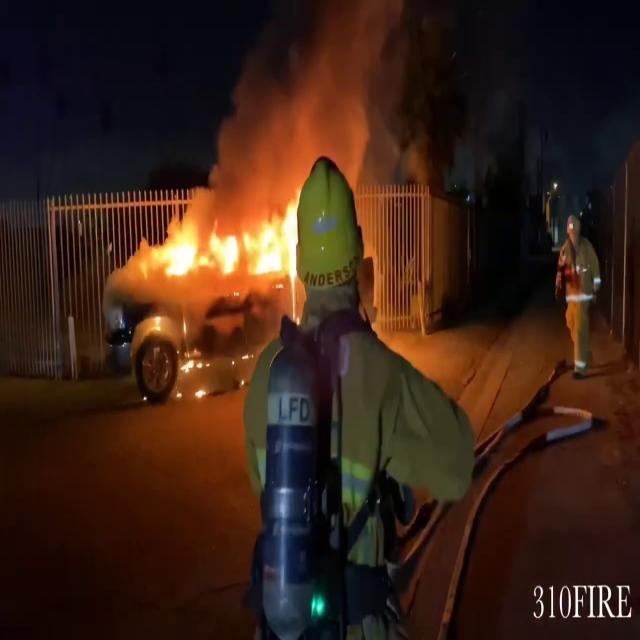Fire: (157, 194, 307, 290)
Smoke: (202, 0, 400, 203)
